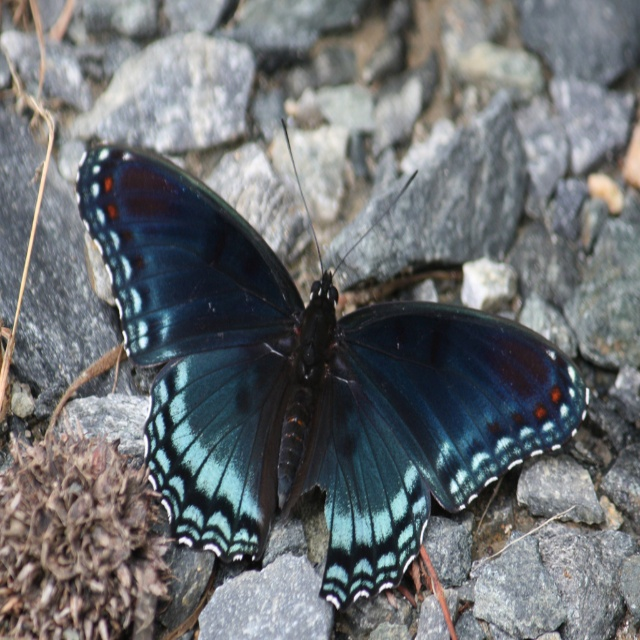Butterfly: (74, 121, 589, 606)
